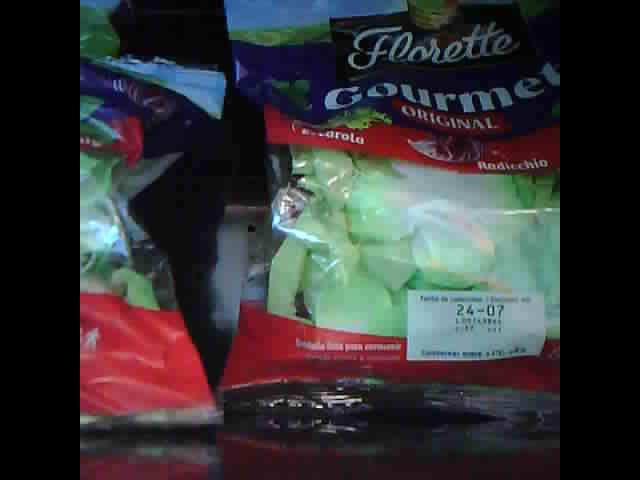florette: (216, 1, 560, 420), (82, 5, 223, 432)
